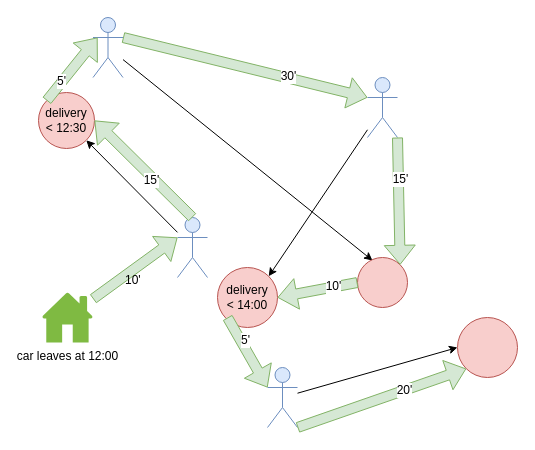
This 535x450 diagram has some shape labels left out. Each missing label, with the centre of its shape:
delivery < 13:40: (x=382, y=282)
delivery < 14:30: (x=487, y=347)
